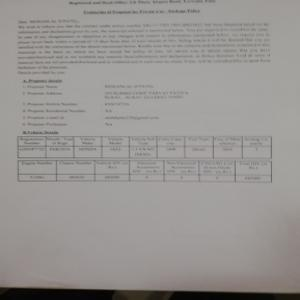table: (17, 159, 274, 182), (17, 136, 274, 157)
text: (16, 19, 273, 75), (19, 78, 190, 128), (80, 6, 205, 18)
